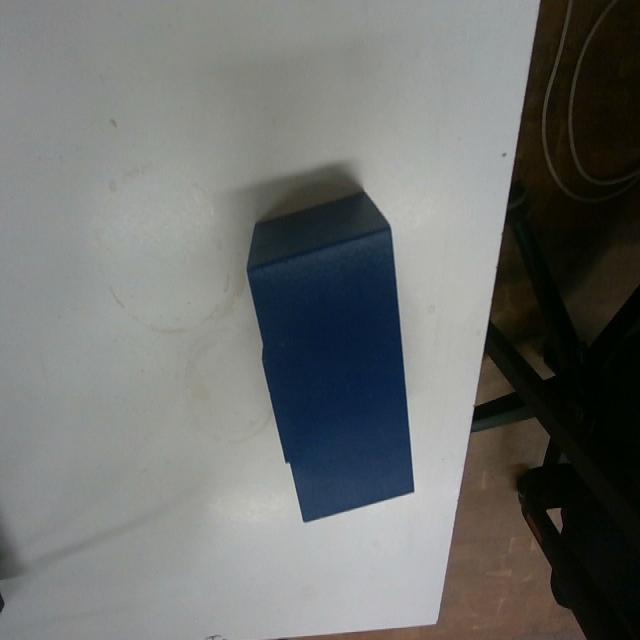Blue Cuboid: (244, 185, 416, 523)
